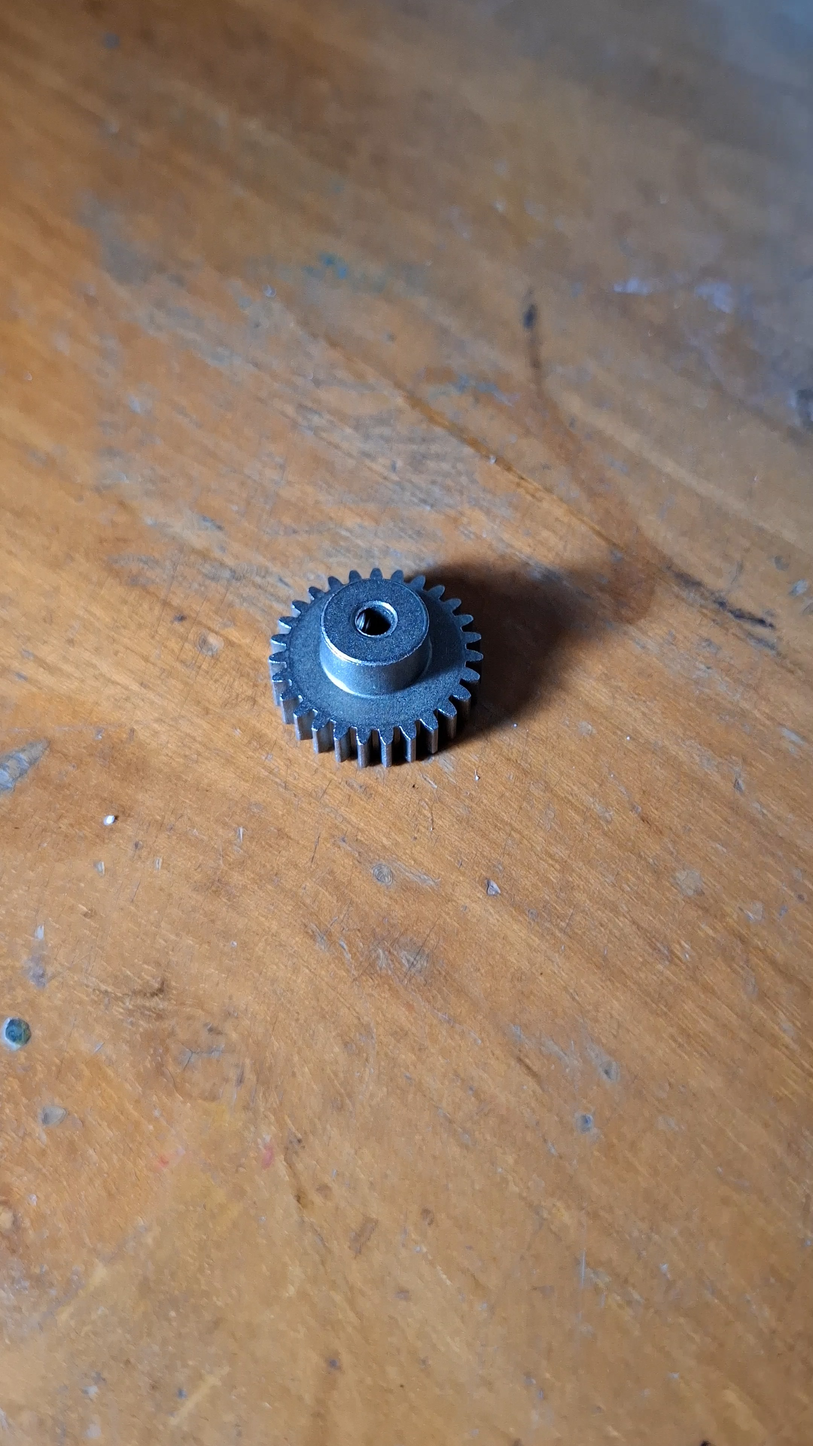spur gear: (269, 568, 482, 766)
